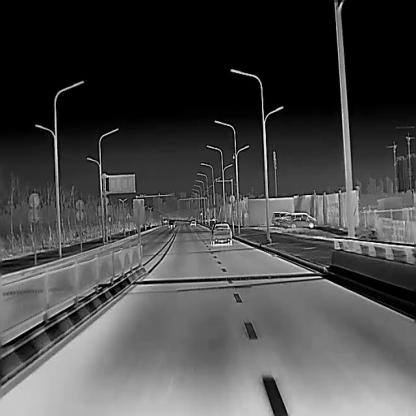car: (210, 222, 232, 244), (288, 212, 316, 224), (286, 217, 312, 227), (271, 211, 287, 225), (188, 218, 197, 226), (168, 218, 174, 228)
